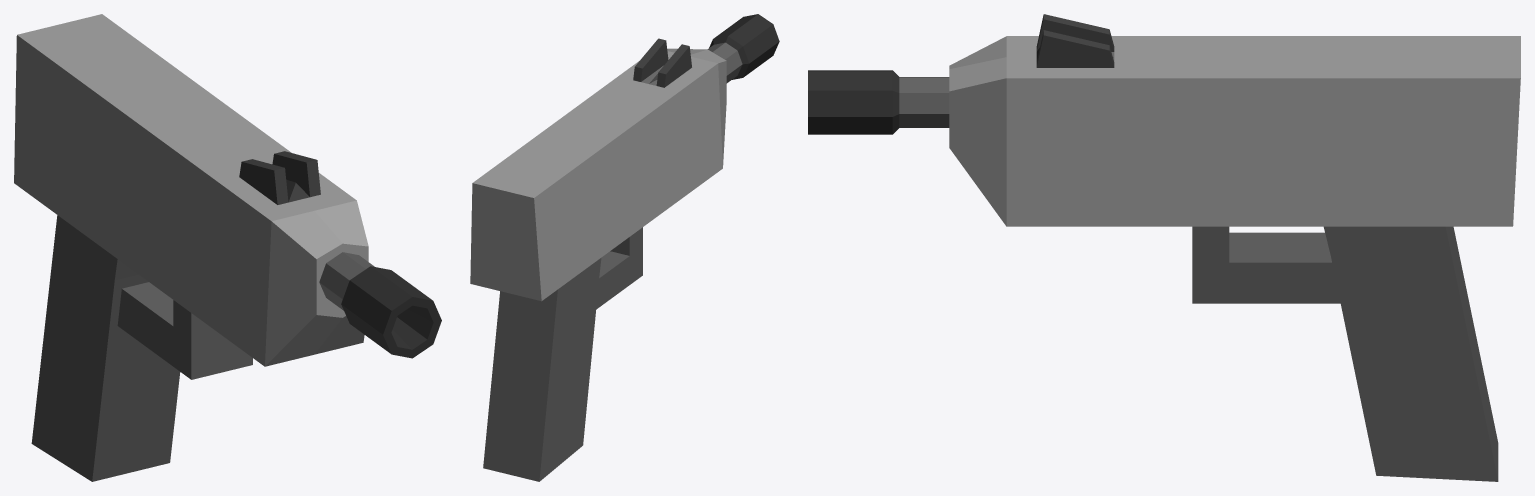
File: Pistol.fbx
3 renders of one model, left to right at view 1: azimuth 30°, elevation 25°; view 2: azimuth 150°, elevation 25°; view 3: azimuth 270°, elevation 25°, orthographic. The views are drawn at different scales.
Parts seen in each view (by area): view 1: Cube.062; view 2: Cube.062; view 3: Cube.062.
Boxes of the visible parts, x1,y1,x2,y2 form: Cube.062: (14,14,441,481); Cube.062: (470,14,779,481); Cube.062: (808,14,1520,481).
Size of the model in its own units: 3.55 by 14.92 by 22.
